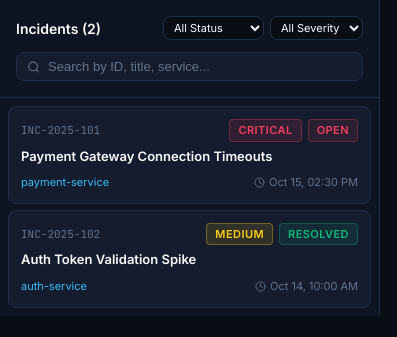
Test: IncidentList Component › shows empty state when no incidents match filter
Type "nonexistent-query-xyz" into the field with placeholder "Search by ID, title, service..." at (200, 66), box [48, 59, 352, 74]
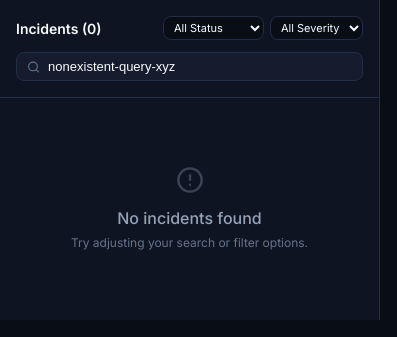
Result: the text "No incidents found" is shown at [117, 206, 262, 230]
